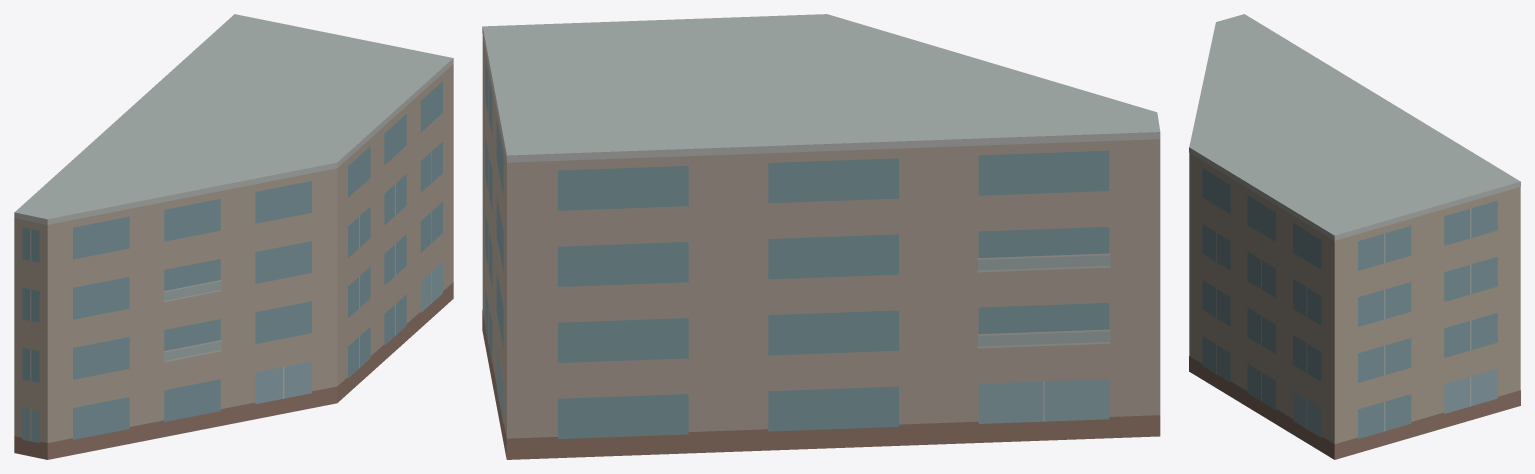
File: survey-upis-32967226.glb
3 views of the same model, side by side, from view 1: azimuth 30°, elevation 25°; view 2: azimuth 150°, elevation 25°; view 3: azimuth 270°, elevation 25° (orthographic). The views are drawn at different scales.
Visible parts, largest first — view 1: survey-upis-32967226.tmp; view 2: survey-upis-32967226.tmp; view 3: survey-upis-32967226.tmp.
Part boxes in pixels (<box>): survey-upis-32967226.tmp: <box>14,14,453,459</box>; survey-upis-32967226.tmp: <box>482,14,1160,459</box>; survey-upis-32967226.tmp: <box>1189,14,1520,459</box>.
Size of the model in its own units: 22.06 by 10.4 by 13.95.
